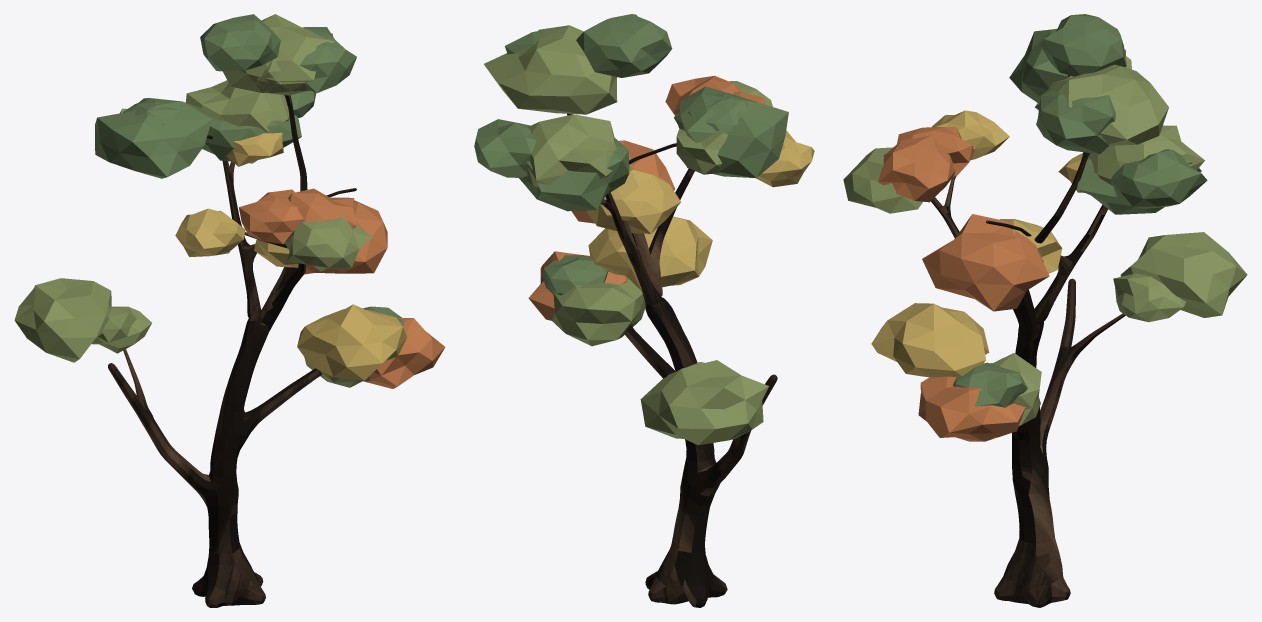
The model's file is tree_dying_2.glb.
The picture shows the model from 3 angles, left to right: view 1: azimuth 30°, elevation 25°; view 2: azimuth 150°, elevation 25°; view 3: azimuth 270°, elevation 25°; orthographic projection. The views are drawn at different scales.
Visible parts, largest first — view 1: tree_dying_23; view 2: tree_dying_23; view 3: tree_dying_23.
Boxes of the visible parts, box(x1,y1,x2,y2) form: tree_dying_23: box(14, 14, 445, 607); tree_dying_23: box(474, 14, 814, 607); tree_dying_23: box(843, 14, 1247, 607).
Size of the model in its own units: 6.19 by 10.41 by 6.48.
Materials: 5 (1 with a texture image).
